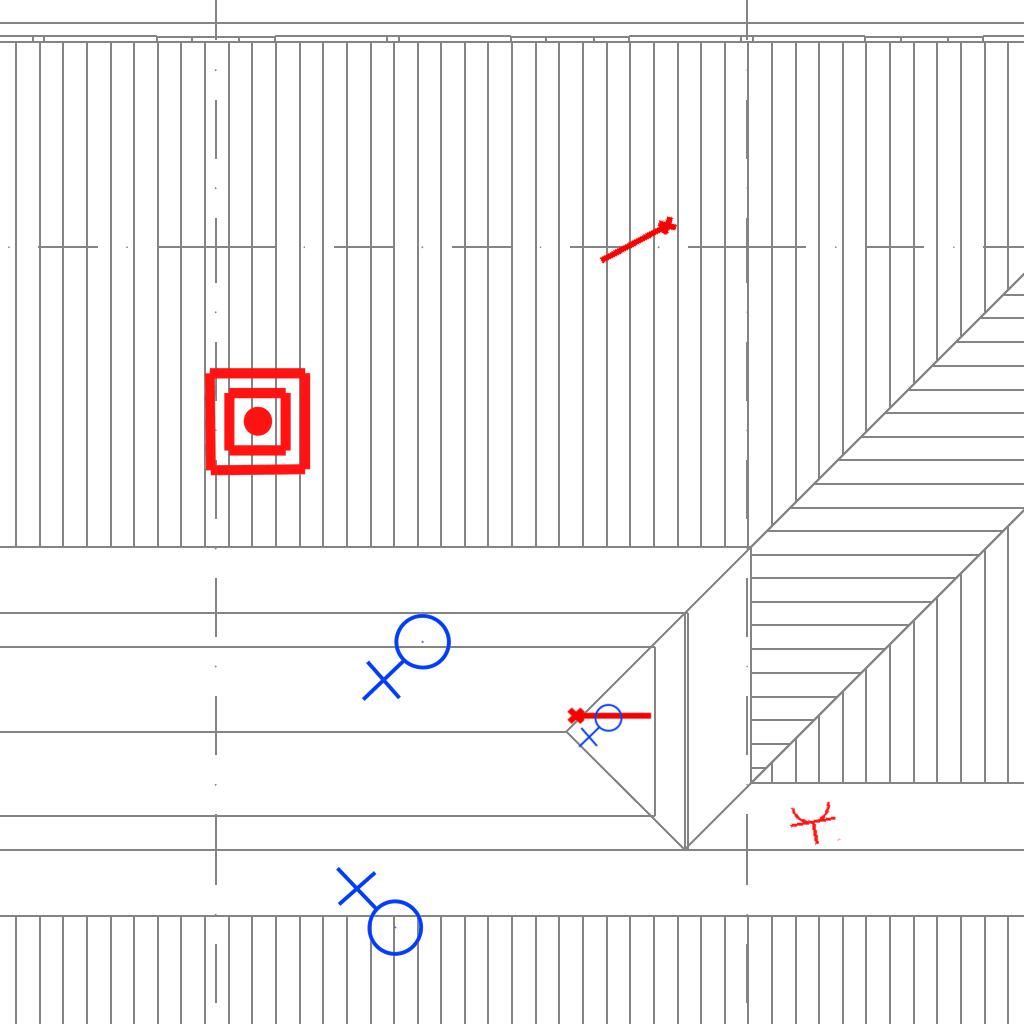ASR_Ansaugoeffnung: (593, 211, 683, 274), (566, 703, 654, 726)
Elektroanschluss_allgemein_230V_Geraeteanschlussdose_230V: (361, 612, 460, 706), (331, 866, 425, 965), (578, 703, 627, 750)
NAM-Nichtautomatischer_Melder: (201, 365, 314, 478)
Schukosteckdose_einfach: (786, 798, 843, 850)
